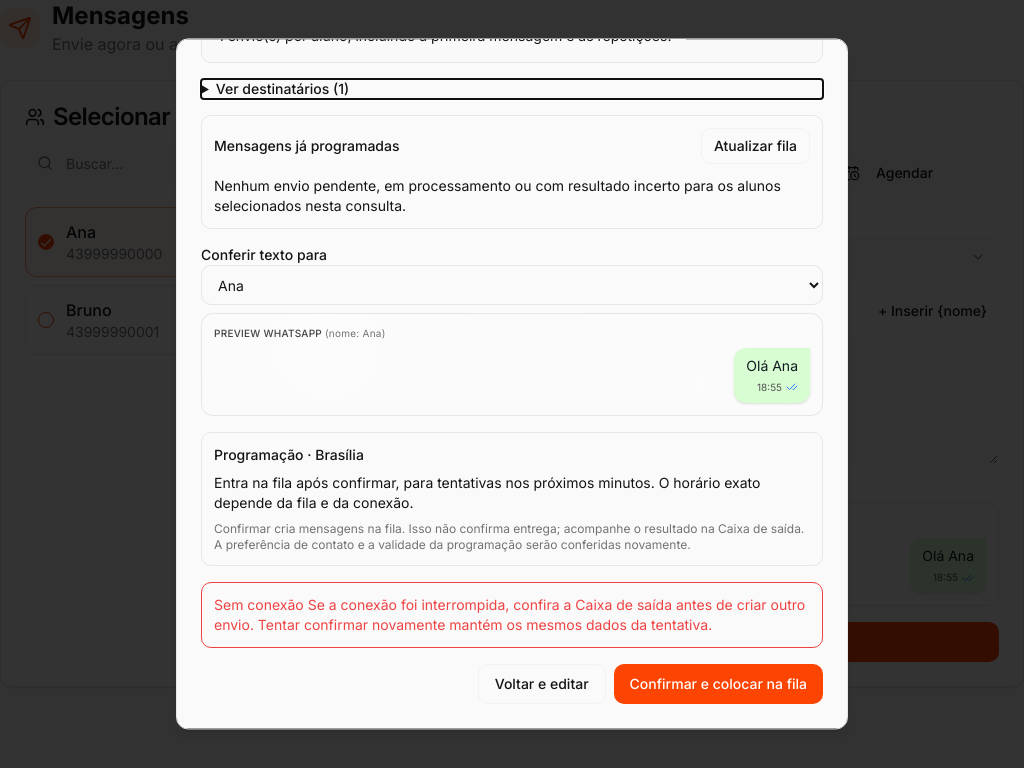
keeps the review and the same payload available after a network failure
Earlier steps of the test are not shown.
(page scrolled)
Expected: the message shows "Sem conexão", left=214, top=596, right=805, bottom=633
Click the button "Confirmar e colocar na fila" at (718, 684), box left=614, top=664, right=823, bottom=704
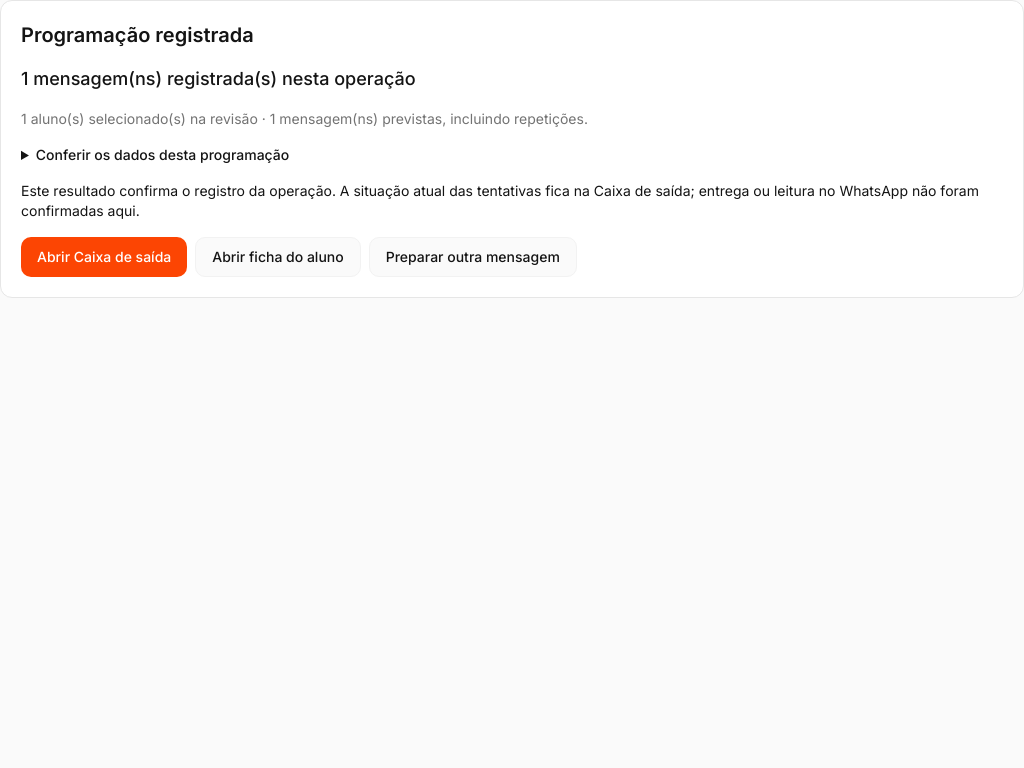
Expected: the dialog is gone
